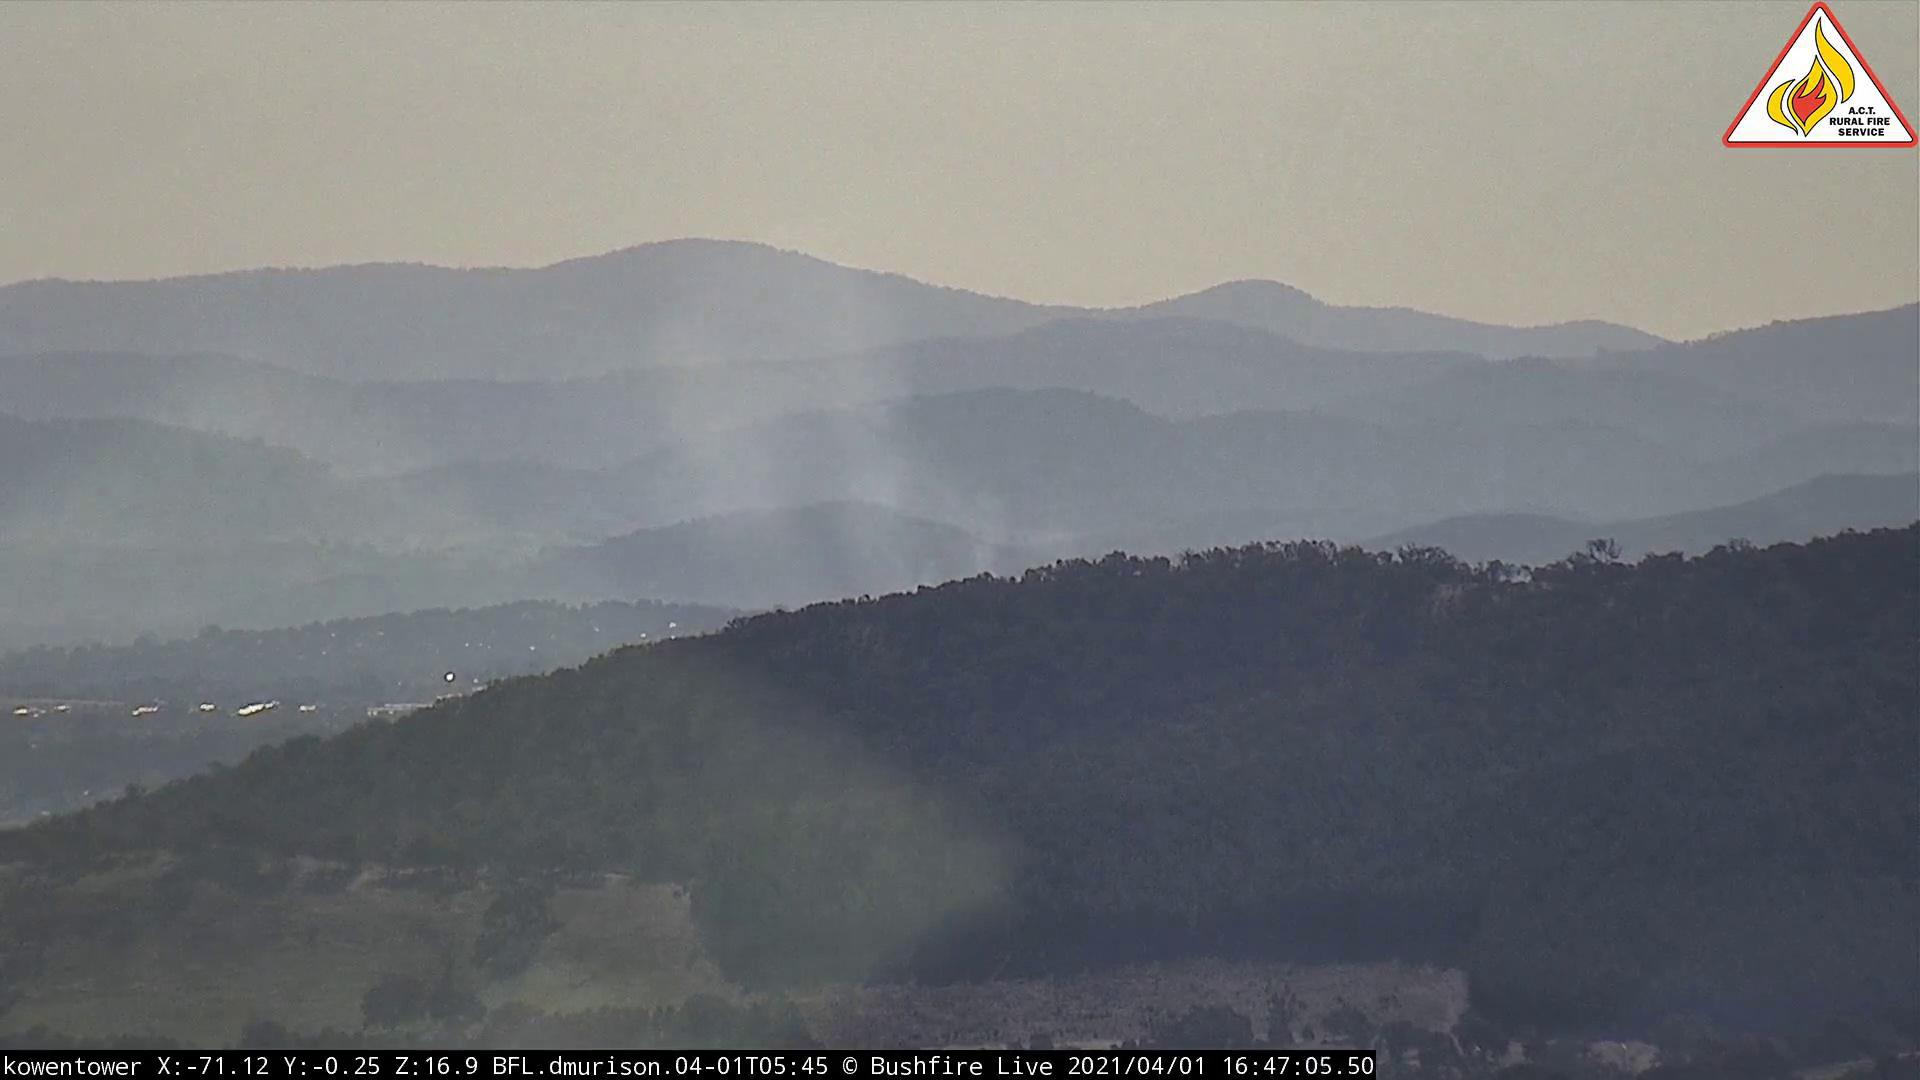Smoke: (644, 233, 1079, 632)
